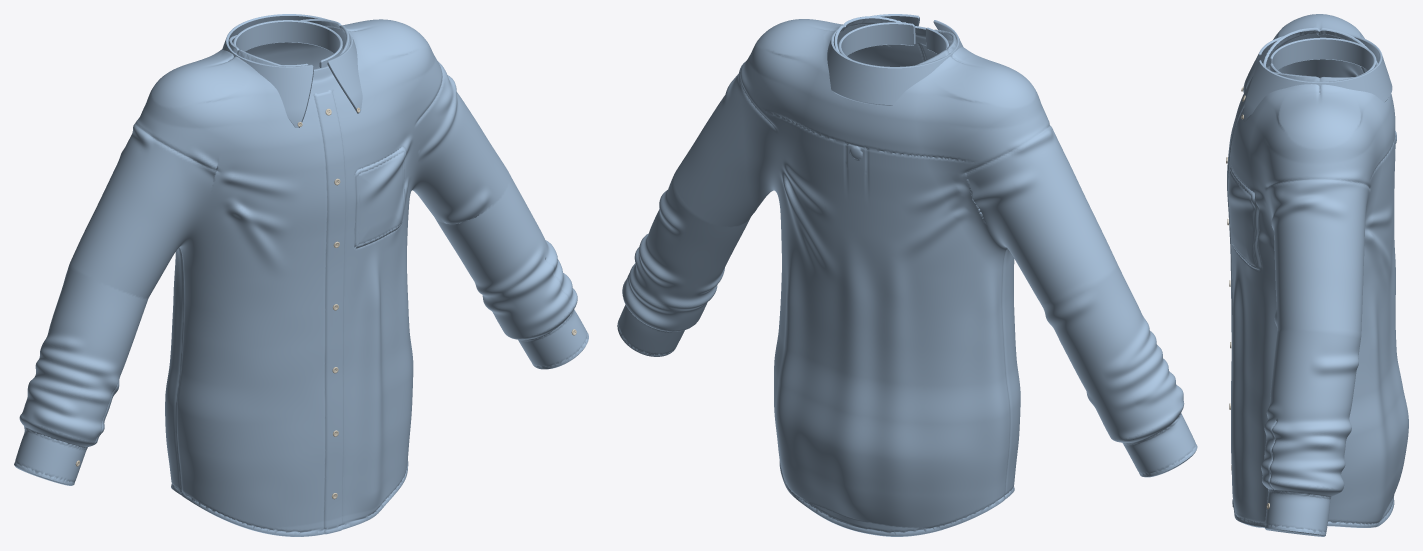
File: 02_camisa_oxford.glb
3 views of the same model, side by side, from view 1: azimuth 30°, elevation 25°; view 2: azimuth 150°, elevation 25°; view 3: azimuth 270°, elevation 25° (orthographic). The views are drawn at different scales.
Parts seen in each view (by area): view 1: body; view 2: body; view 3: body.
Part boxes in pixels (x1,y1,x2,y2): body: (14, 14, 588, 536); body: (617, 14, 1197, 536); body: (1227, 14, 1408, 536).
Bounding box in the file's own units: 0.9995 × 0.784 × 0.2873.
